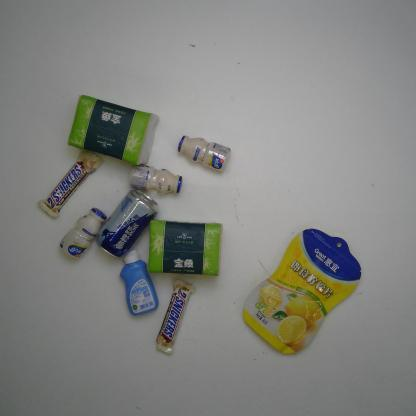Alcohol: (95, 190, 160, 258)
Chocolate: (36, 153, 102, 218), (154, 279, 195, 355)
Dried Fruit: (242, 227, 362, 355)
Milk: (59, 207, 107, 260), (177, 135, 231, 172), (128, 164, 182, 195)
Personal Hygiene: (119, 249, 158, 316)
Tissue: (67, 94, 160, 166), (147, 219, 223, 276)
